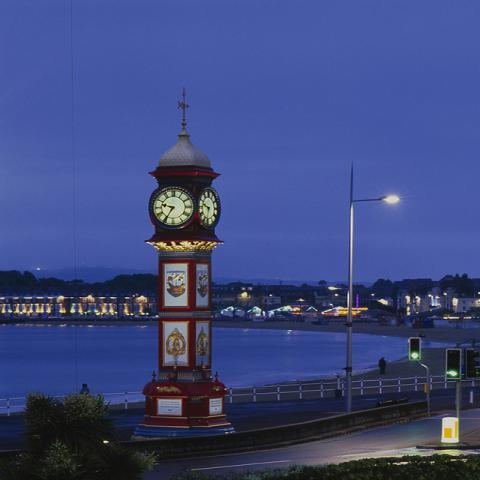car: (309, 320, 329, 326), (356, 317, 374, 323)
